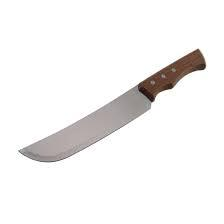Knife: (17, 47, 206, 162)
